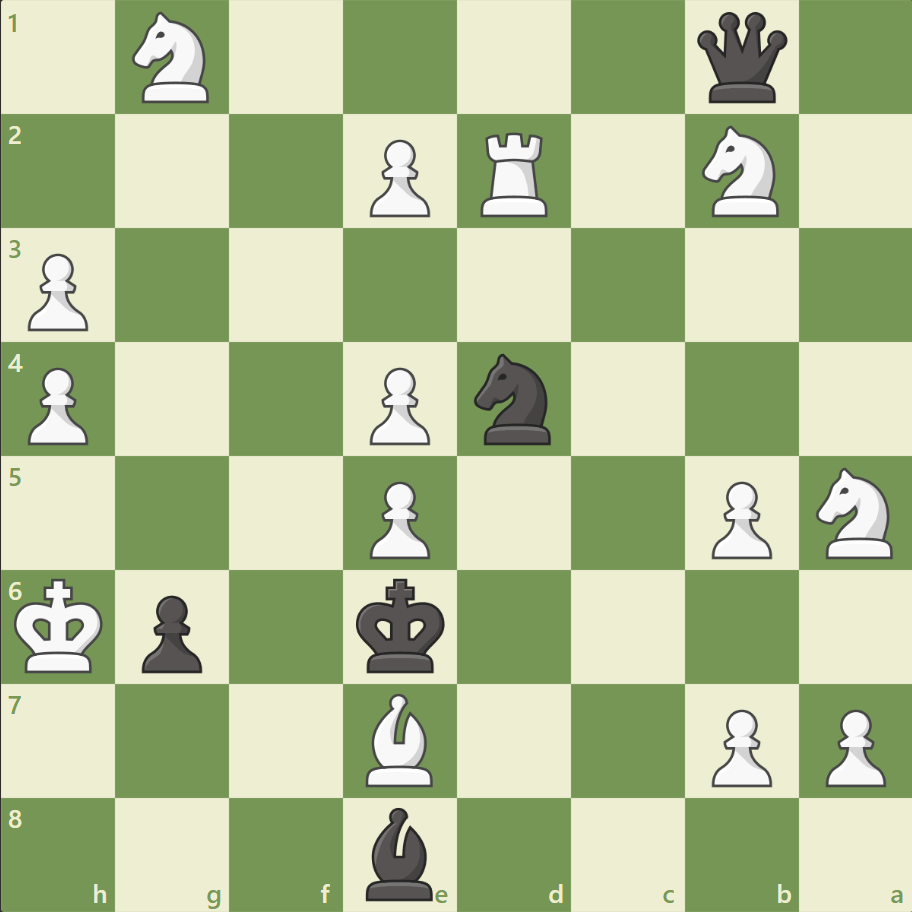B: (358, 687, 442, 790)
K: (11, 571, 111, 679)
N: (124, 7, 222, 110), (806, 461, 903, 564), (692, 121, 789, 223)
P: (701, 700, 776, 791), (701, 473, 776, 564), (20, 359, 95, 450), (20, 246, 95, 337), (815, 700, 889, 791), (361, 473, 435, 564), (361, 359, 435, 450), (361, 132, 435, 223)
R: (473, 125, 556, 222)
b: (358, 801, 442, 904)
k: (351, 571, 451, 679)
n: (465, 348, 562, 450)
p: (133, 586, 208, 677)
q: (691, 9, 790, 108)
